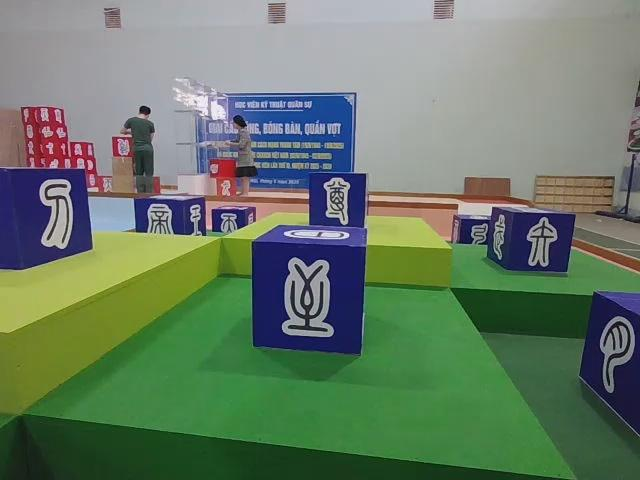R2 Fake Blue: (255, 223, 371, 355), (1, 168, 95, 272), (580, 291, 640, 446), (490, 205, 579, 274), (309, 173, 369, 232), (133, 195, 204, 237), (453, 213, 495, 244), (210, 206, 255, 233)
